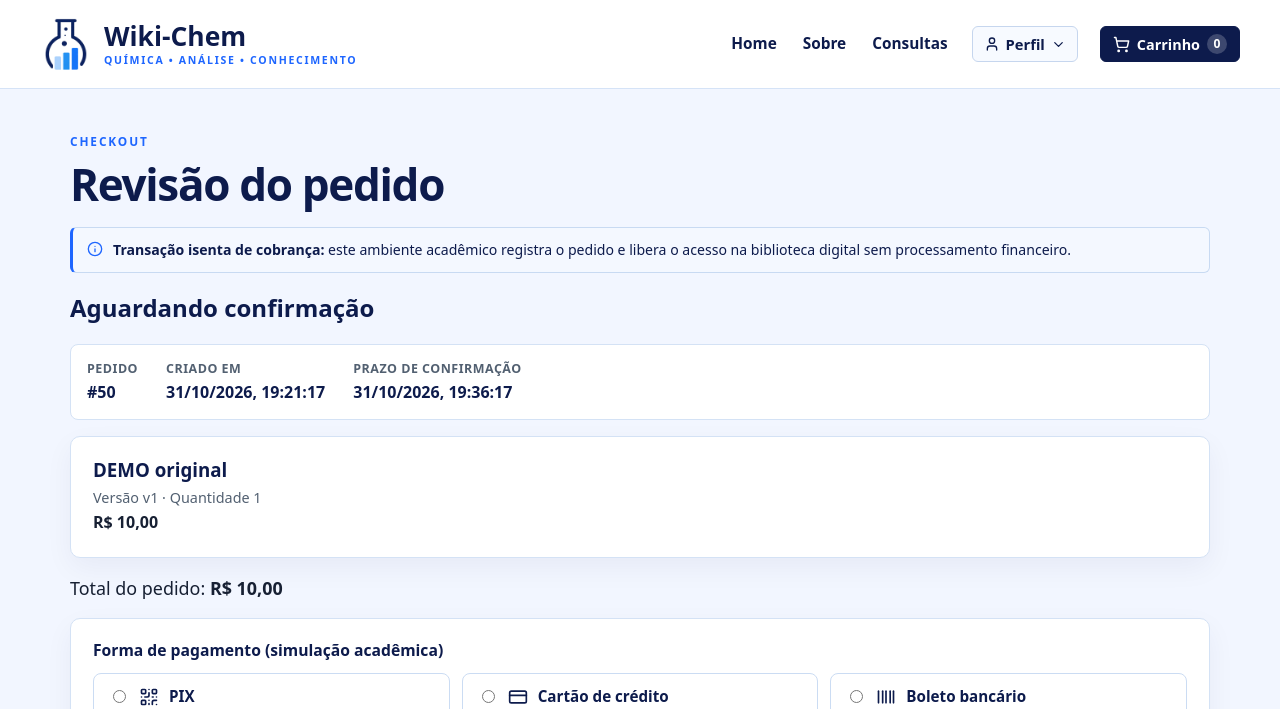
Test: checkout integrado aos contratos HTTP, simulação de pagamento e compras consecutivas › recupera confirmação de resposta perdida por consulta, sem outra operação de escrita
The image size is (1280, 709).
Click the radio button labelled "Boleto bancário" at (857, 696), box [850,690,863,703]
(page scrolled)
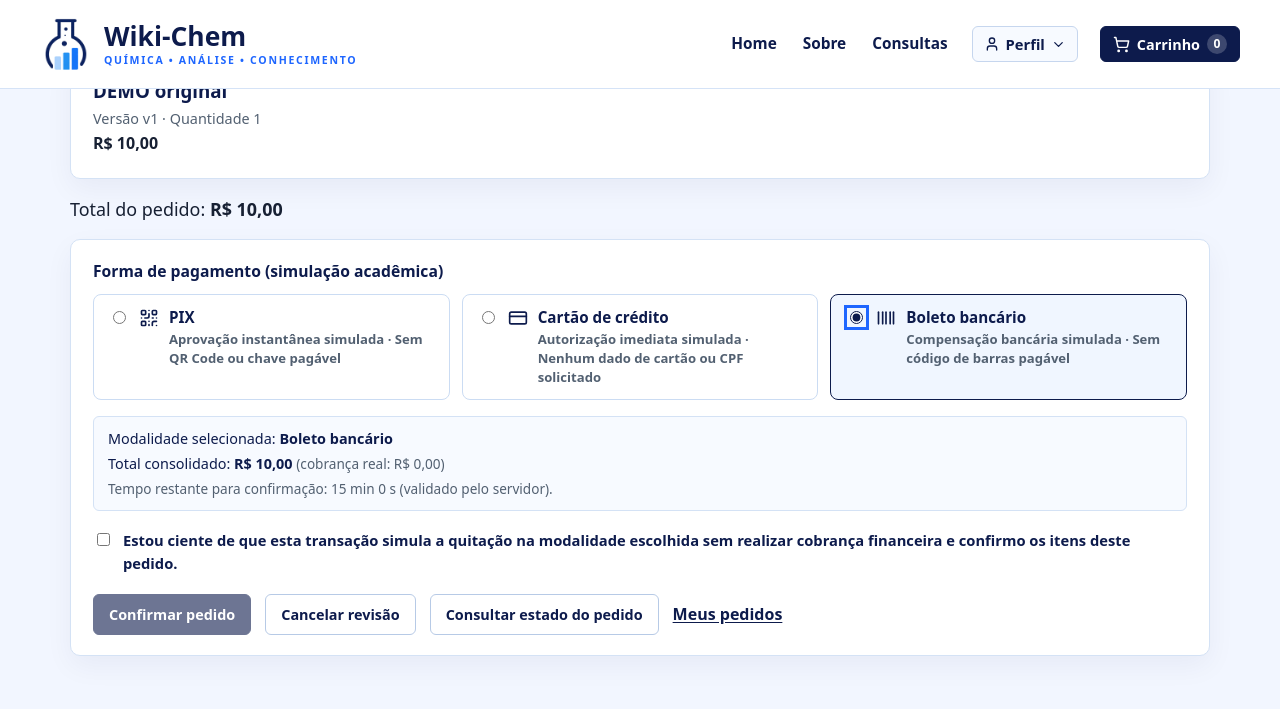
Click the checkbox at (104, 539), box [97,533,110,546]
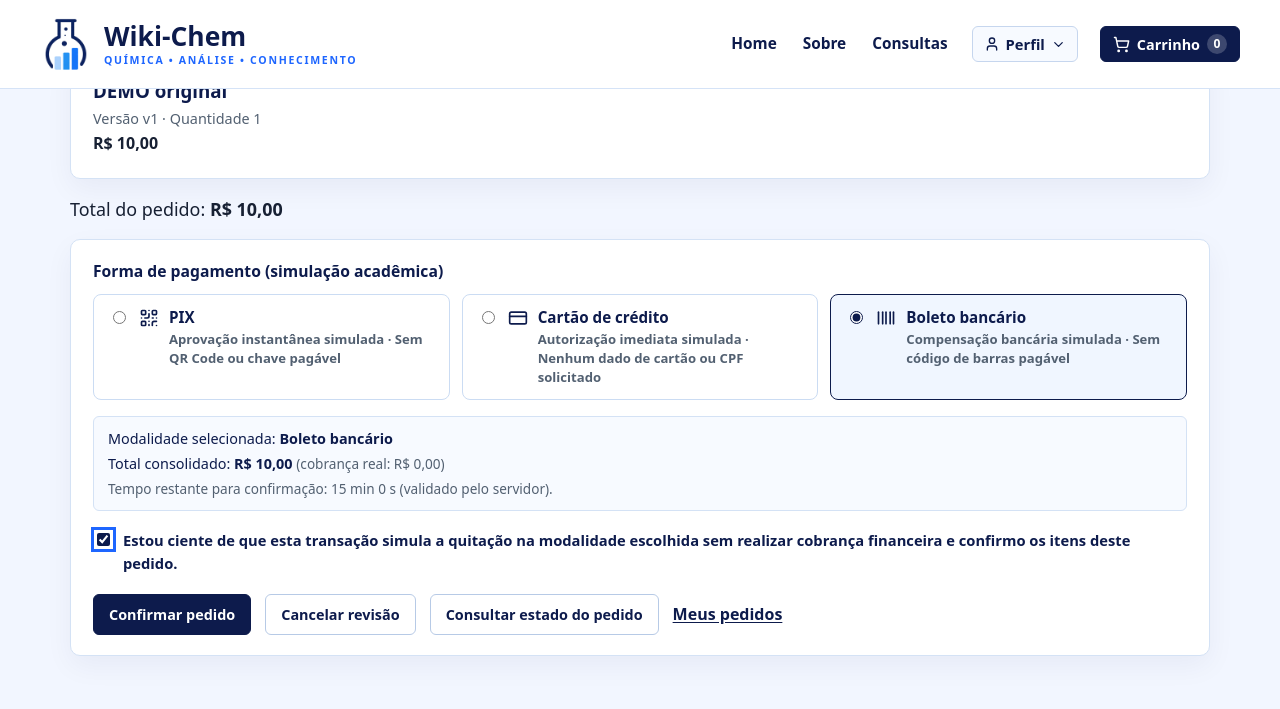
Click the button "Confirmar pedido" at (172, 614), box [93,594,251,635]
(page scrolled)
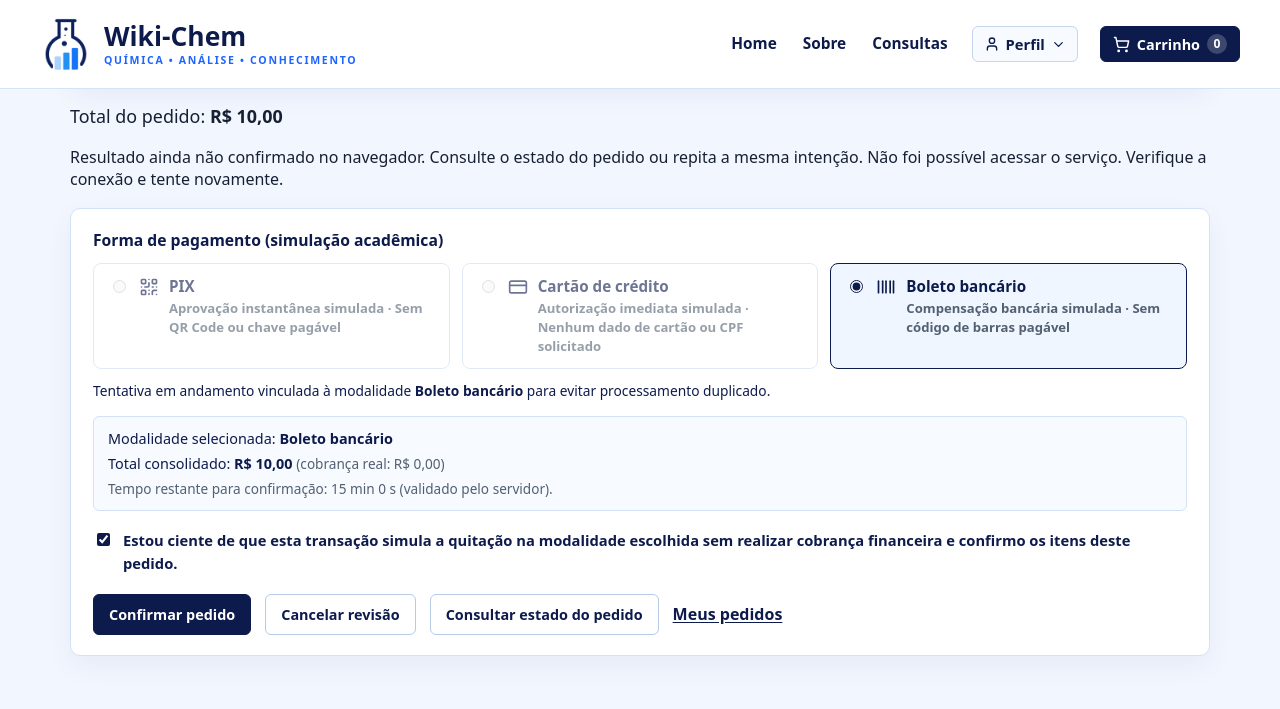
Now the message shows "Resultado ainda não confirmado", box [70,146,1207,190]
Click the button "Consultar estado do pedido" at (544, 614), box [430,594,659,635]
(page scrolled)
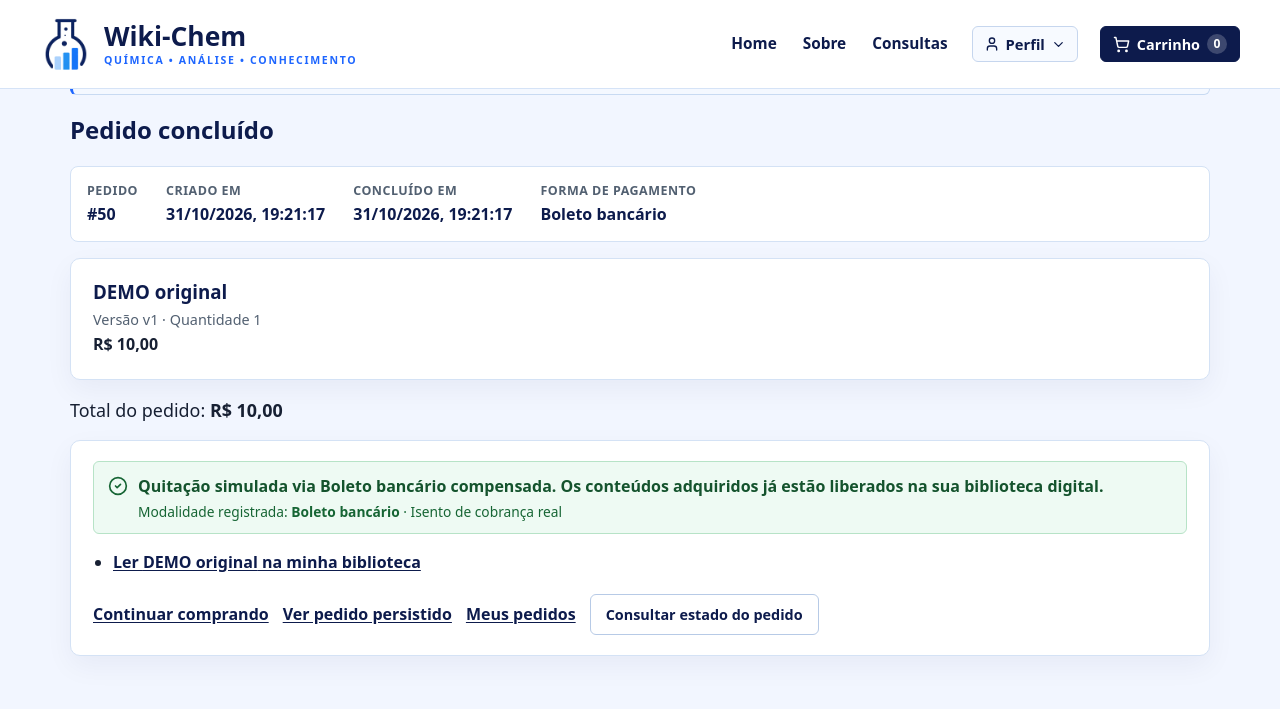
Now the heading "Pedido concluído" is shown, box [70,113,274,146]
Now the text "Quitação simulada via Boleto bancário compensada" is shown, box [138,475,1104,497]
